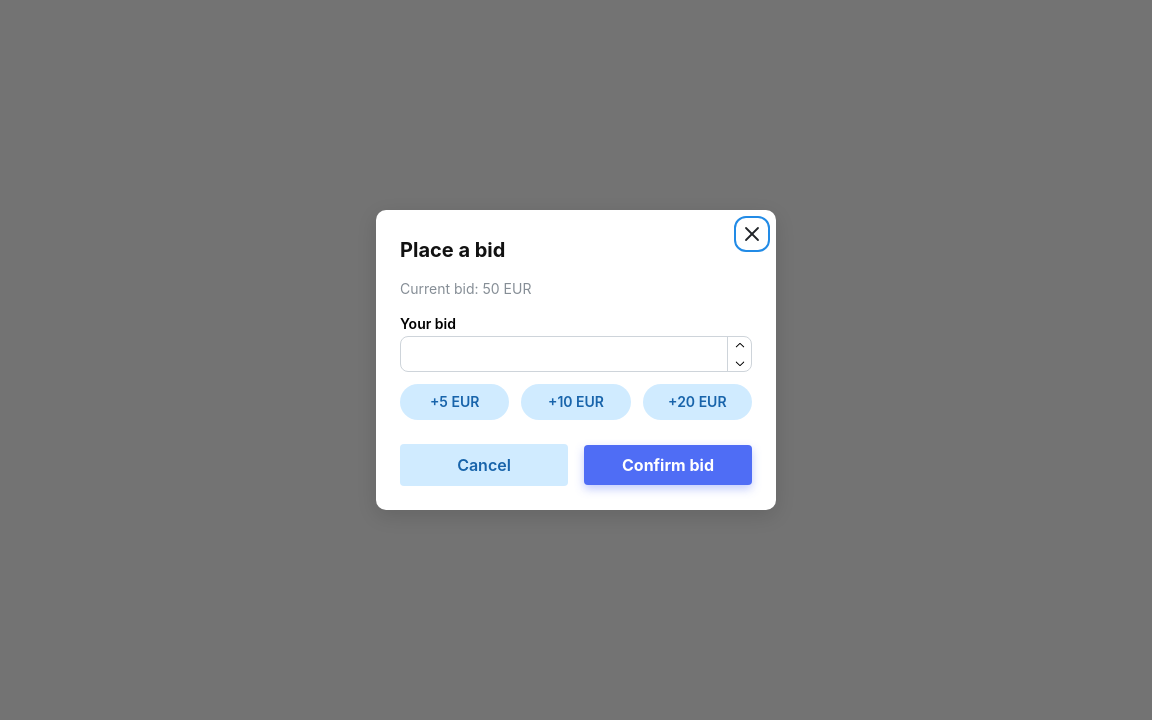
Test: PlaceBidModal › shows error if bid is zero
This screenshot has width=1152, height=720.
Type "0" into the field labelled "Your bid" at [576, 354], box x1=400 y1=336 x2=752 y2=372
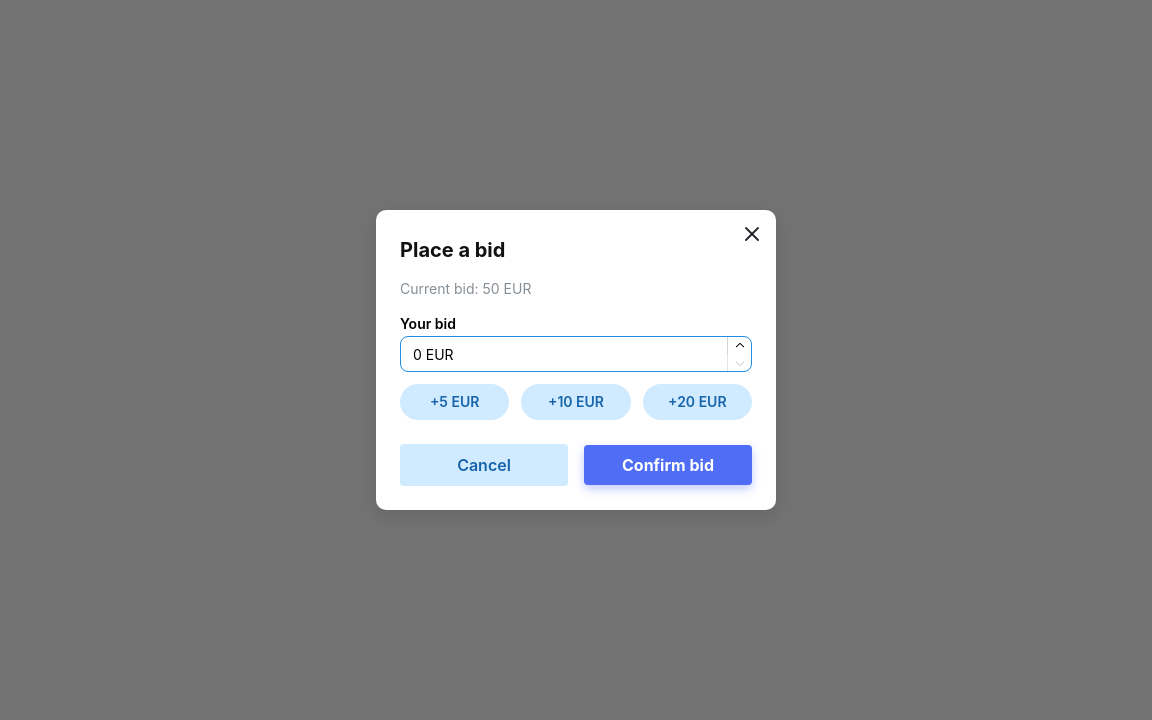
Click the button "Confirm bid" at [668, 465], box x1=584 y1=445 x2=752 y2=485
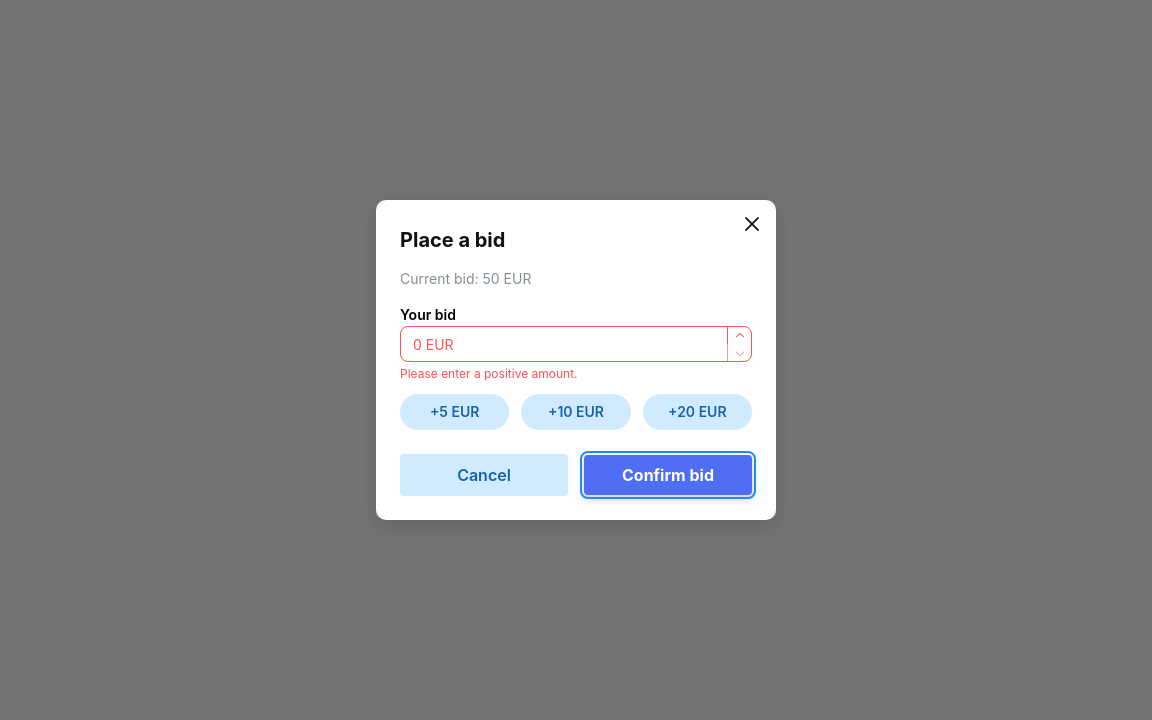
Expected: the text "Please enter a positive amount." is shown, x1=400 y1=366 x2=578 y2=381
